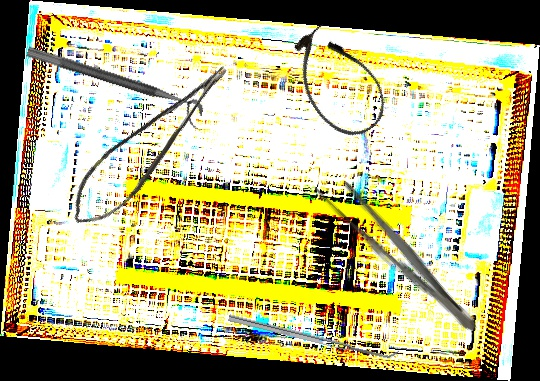Cannula: (278, 15, 398, 149)
Dressing Forceps: (308, 166, 490, 342)
Fixation Ring: (21, 45, 206, 129)
Micro Scissor: (53, 60, 253, 237)
Spatula Surgical: (227, 308, 400, 363)
